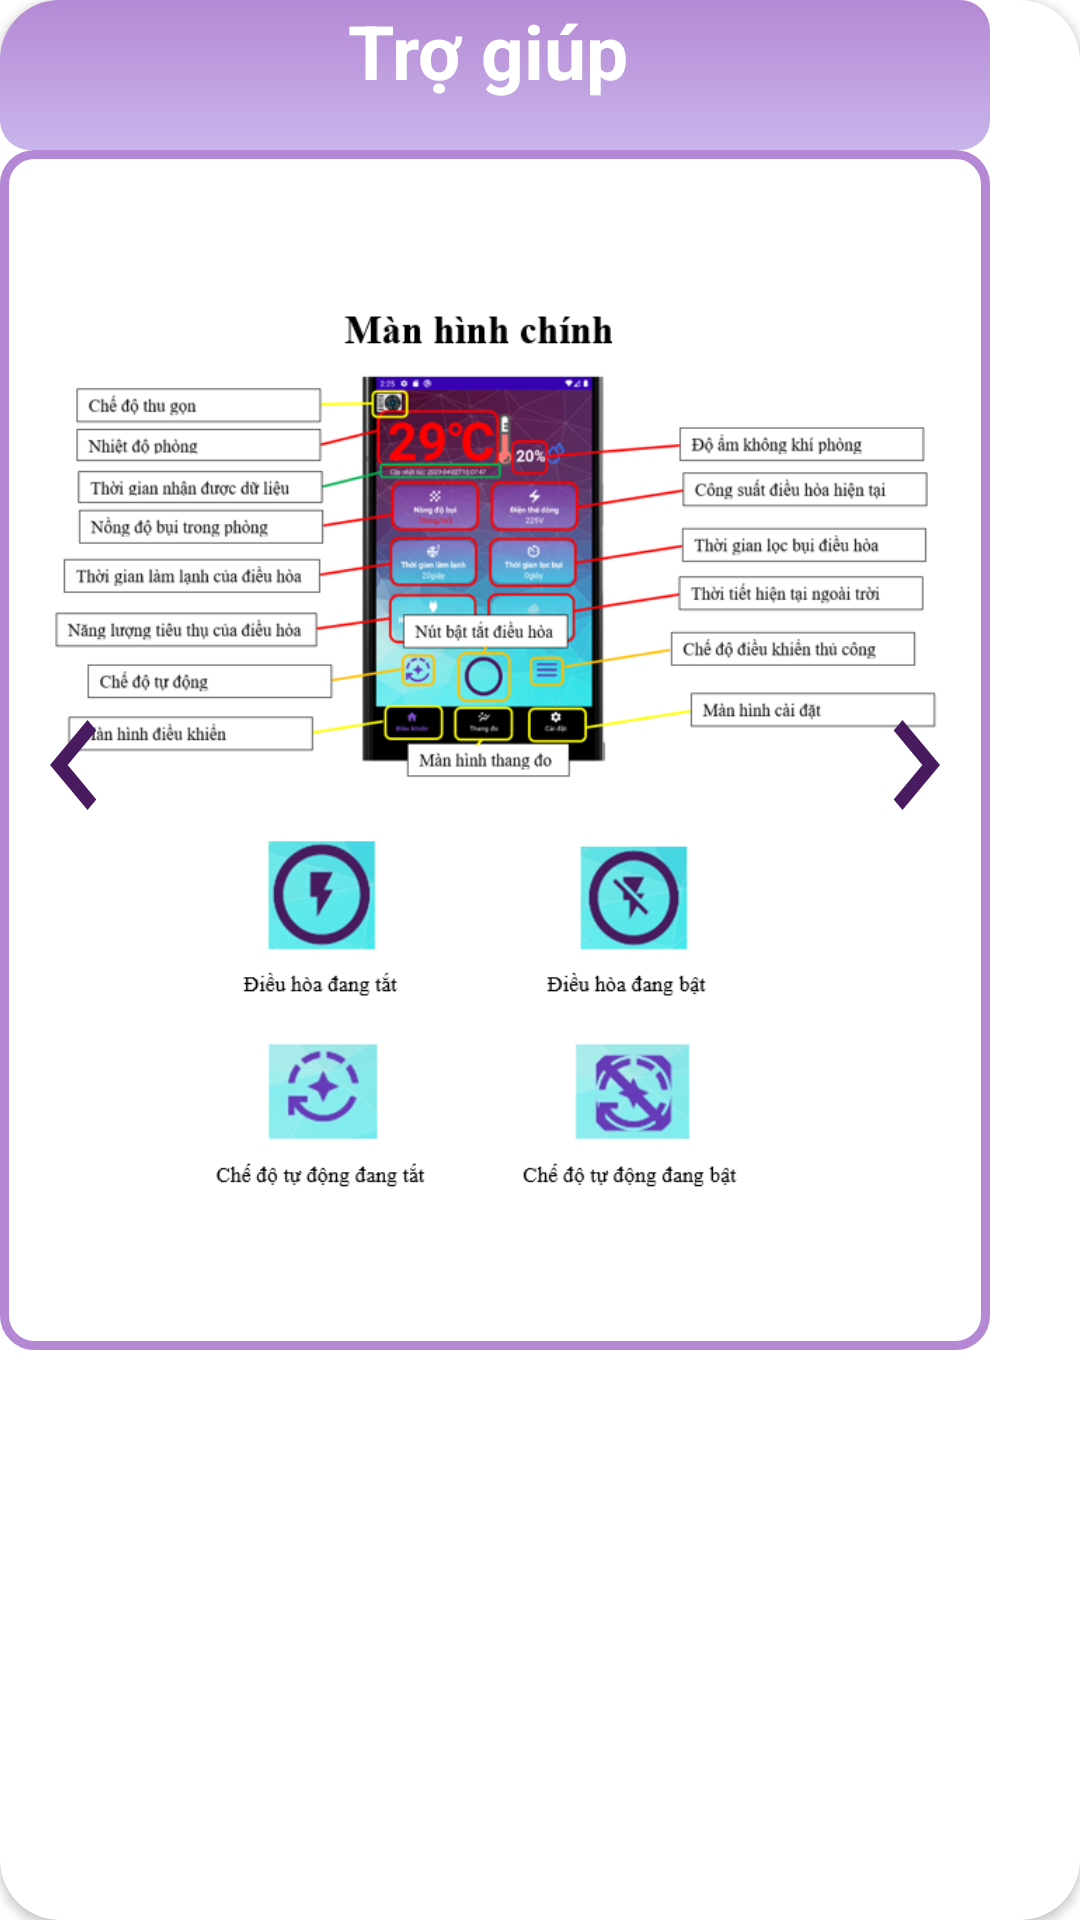

Where icons sit on this 1080px x 1920px app screen, as [x1, y1, x2, y2]:
navigate before: [0, 675, 150, 855]
navigate next: [840, 675, 990, 855]
